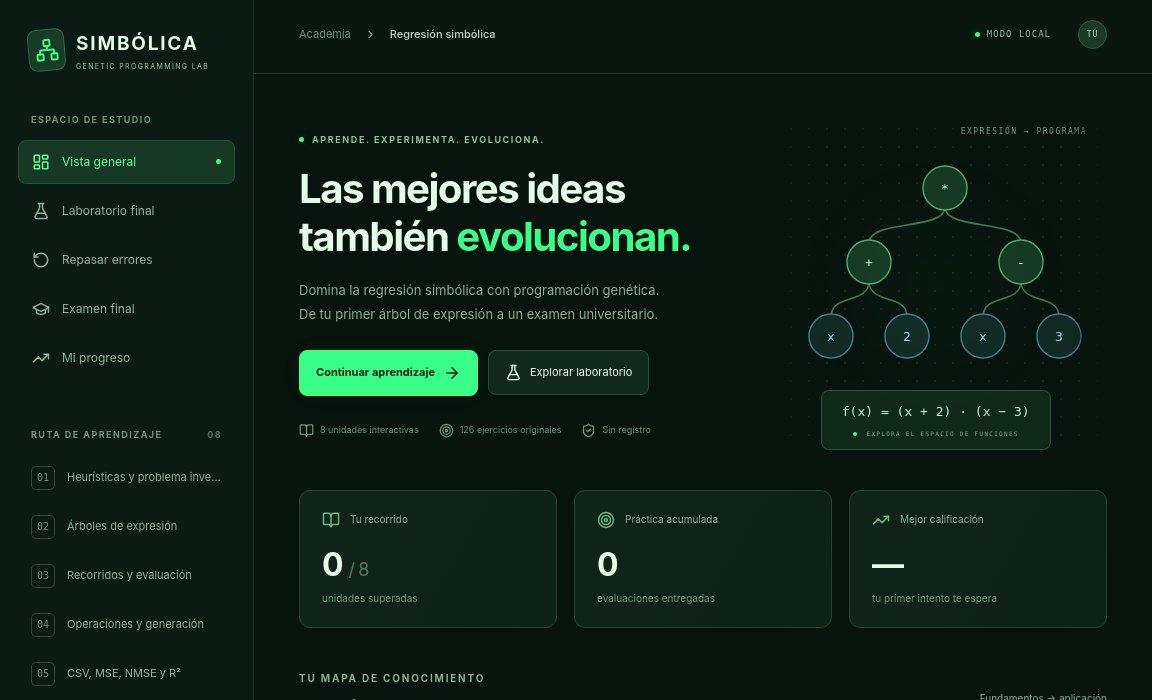
permite estudiar, responder y entregar sin completar unidades de forma ficticia
Click the button "Continuar aprendizaje".
click(388, 372)  # box 299,350 -> 478,396
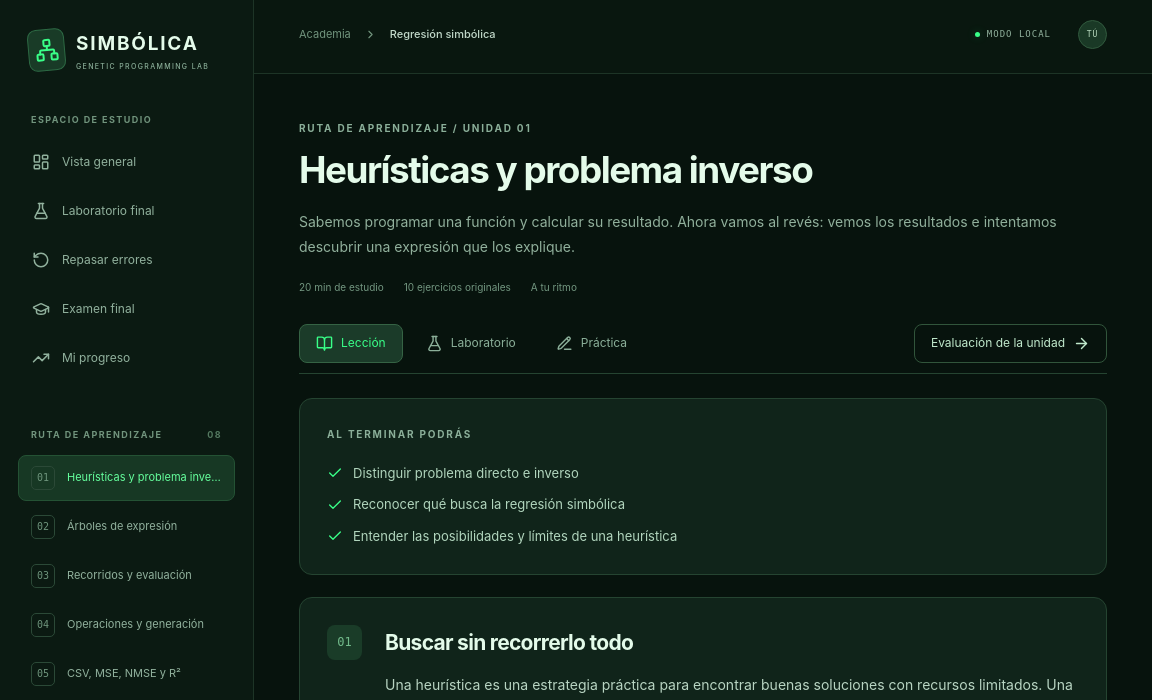
Expected: the heading "Buscar sin recorrerlo todo" is shown, 385,630 -> 633,655
Click the button "Evaluación de la unidad".
click(1010, 343)  # box 914,324 -> 1107,363
(page scrolled)
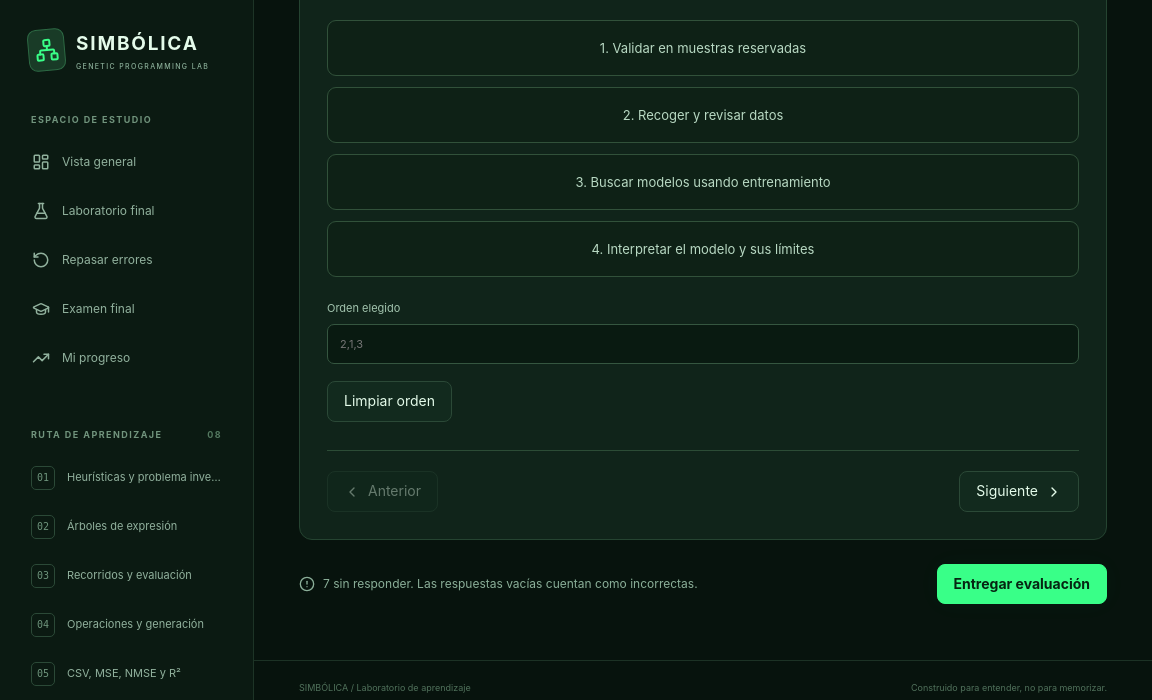
Click the button "Entregar evaluación".
click(1022, 584)  # box 936,564 -> 1107,604
(page scrolled)
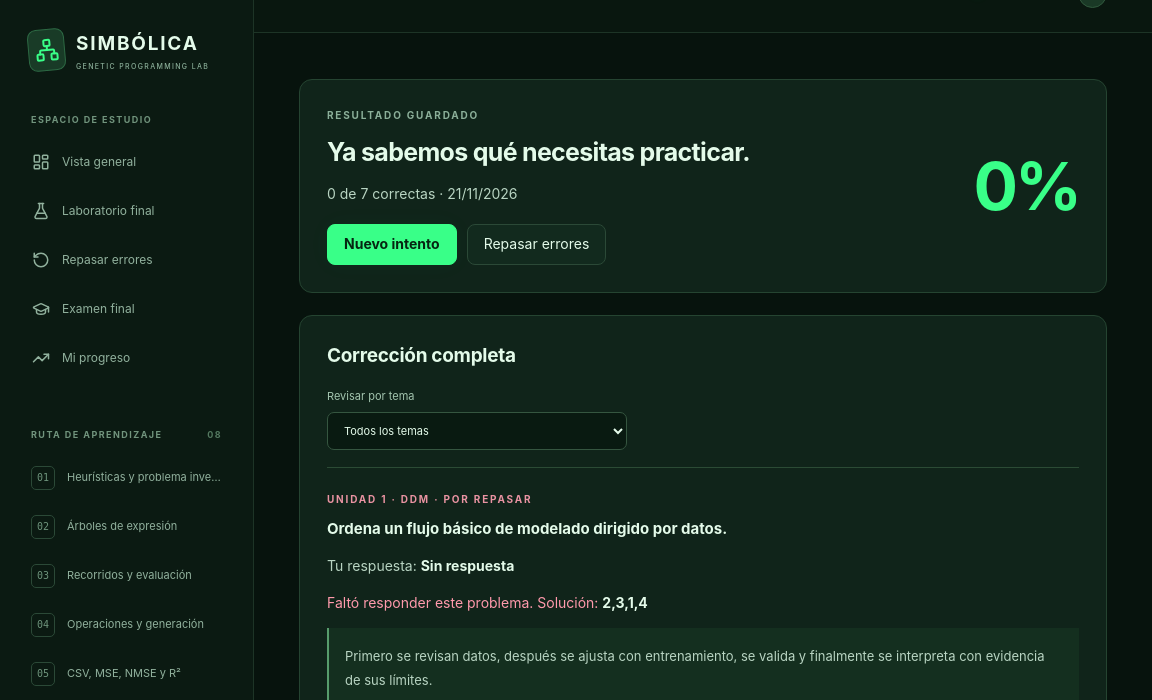
Expected: the text "0%" is shown, 974,132 -> 1079,241
Expected: the heading "Corrección completa" is shown, 327,344 -> 516,367
